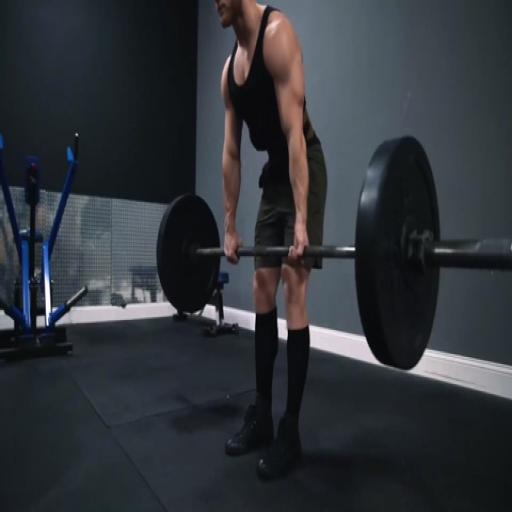exercise: (208, 0, 331, 482)
